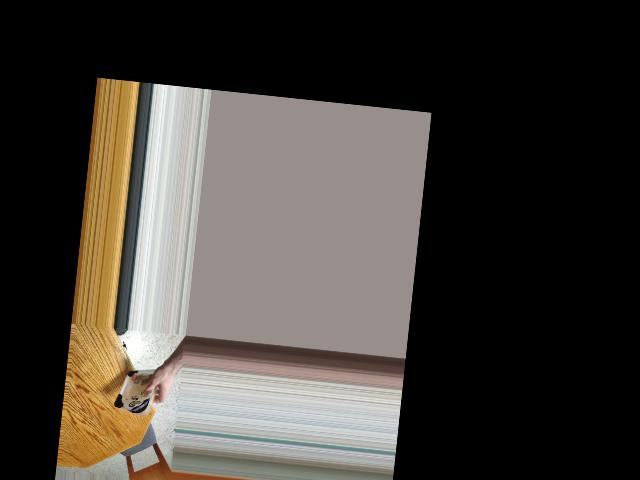cheese: (117, 363, 157, 418)
